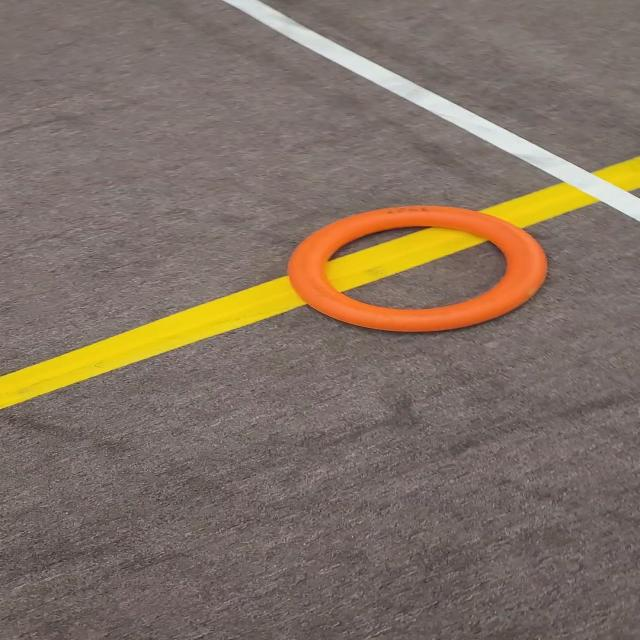note: (279, 199, 555, 339)
